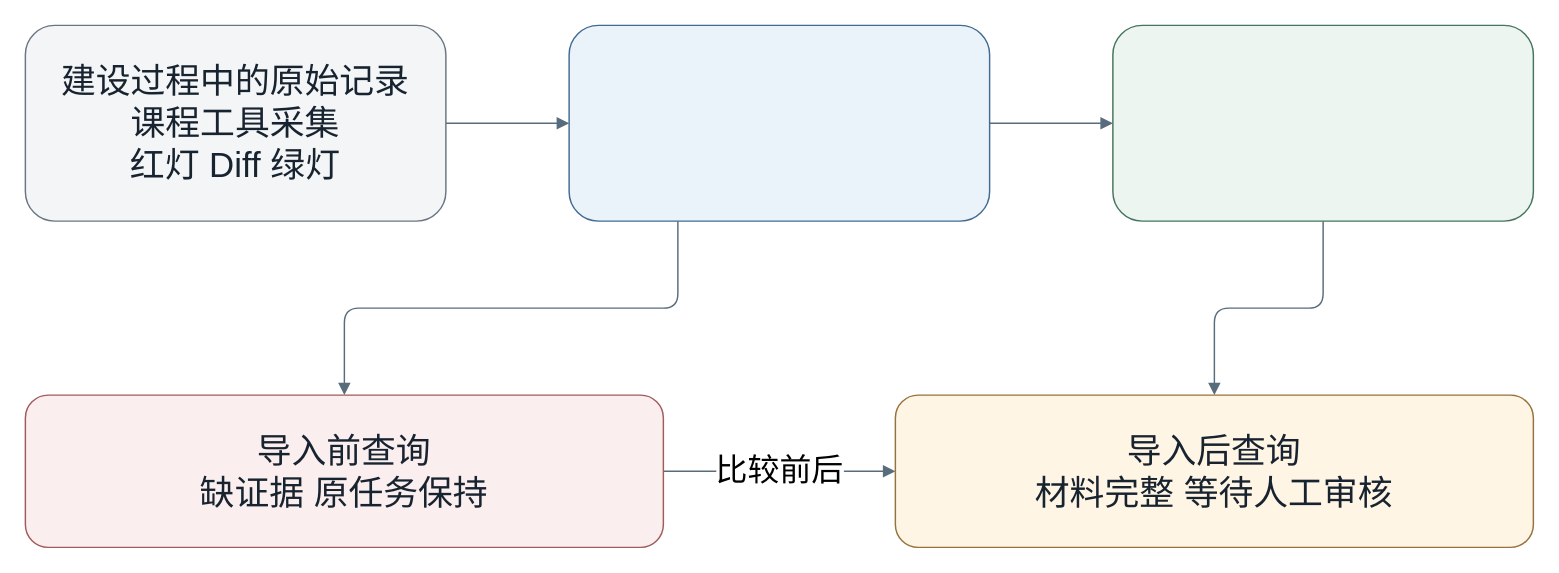
Some shapes in this 1559 by 573 pixel diagram are drawn without their labels. The shapes that lost their labels are listed below. From the top down, each one's centre as x and y in pixels, then its label:
the point at 779,122: 自己的 V0.1 可用 登记个人工作台项目 创建自身建设任务
the point at 1322,122: 选择三份原始记录 核对阶段与时间 导入同一任务
